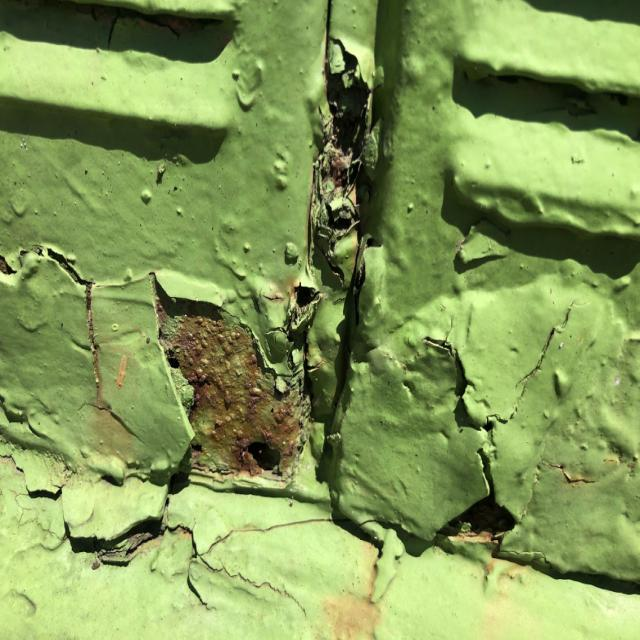Corrosion: (156, 285, 316, 480), (309, 35, 372, 290), (0, 239, 97, 378), (92, 505, 190, 563), (443, 508, 514, 542)
